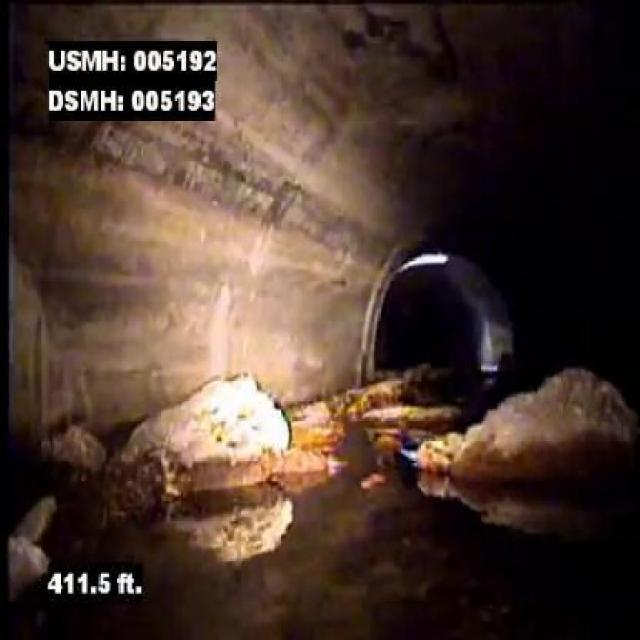Obstacle: (410, 364, 638, 490), (117, 368, 292, 510)
